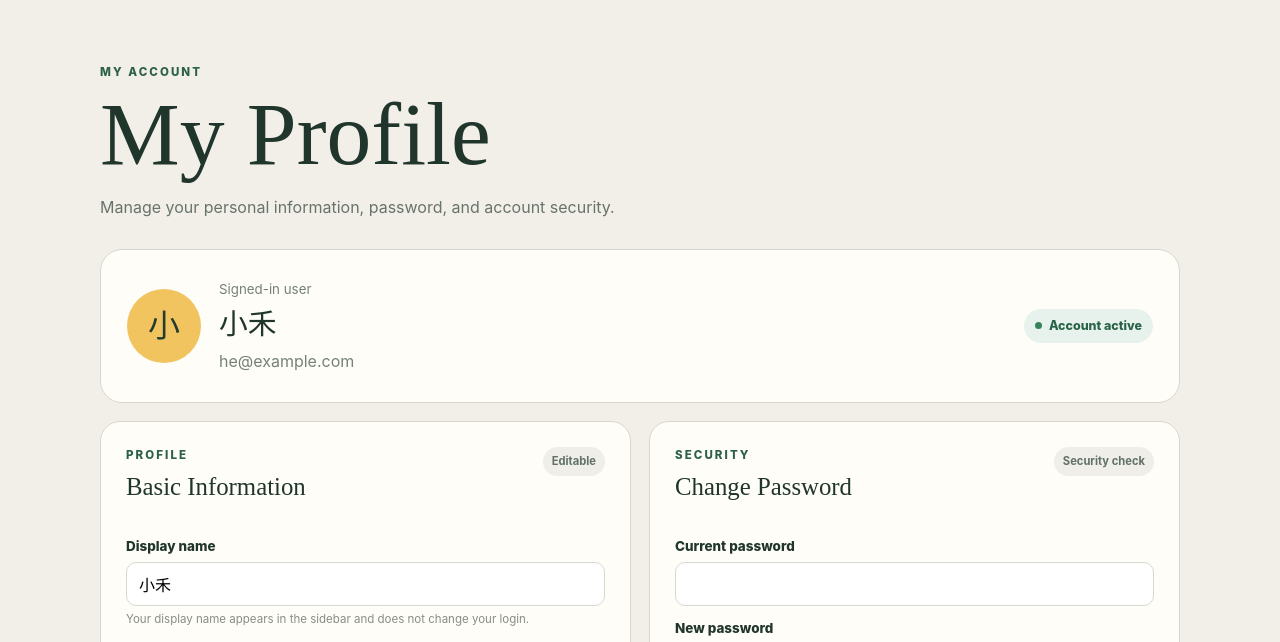
Test: ProfileView › 保存昵称后更新全局用户信息
The image size is (1280, 642).
Replace the text in the field labelled "Display name" with "新昵称" at {"x": 366, "y": 584}, box [126,562,605,606]
(page scrolled)
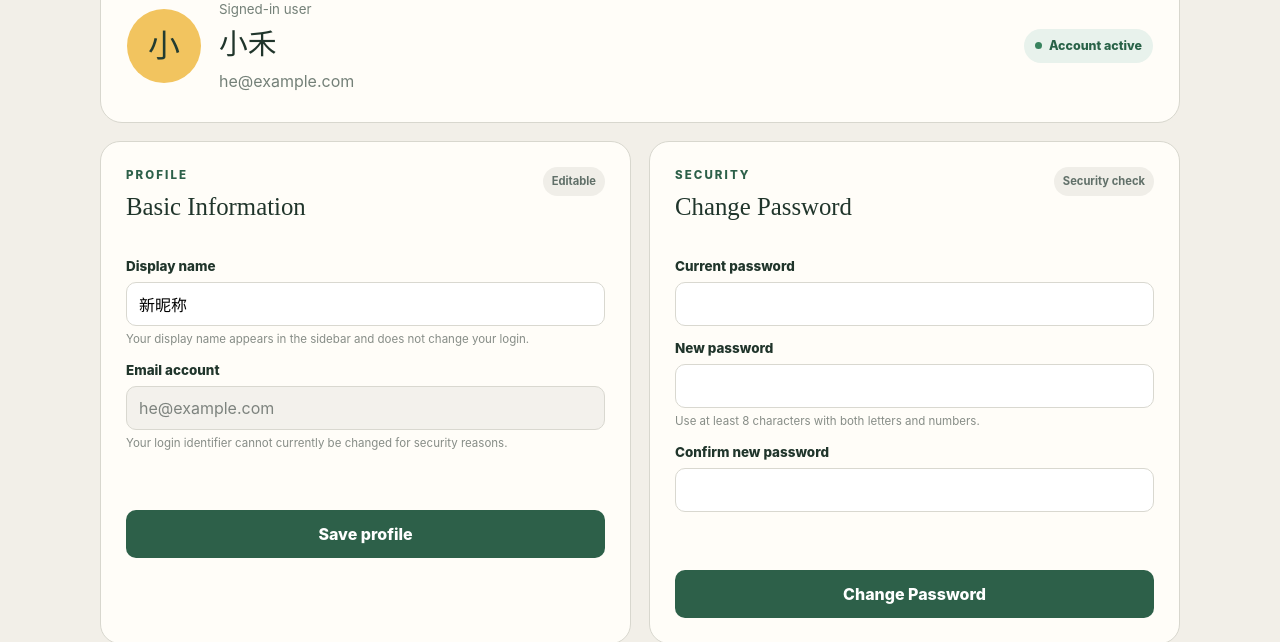
Submit the form that starts with "Display name", box [126,244,605,558]
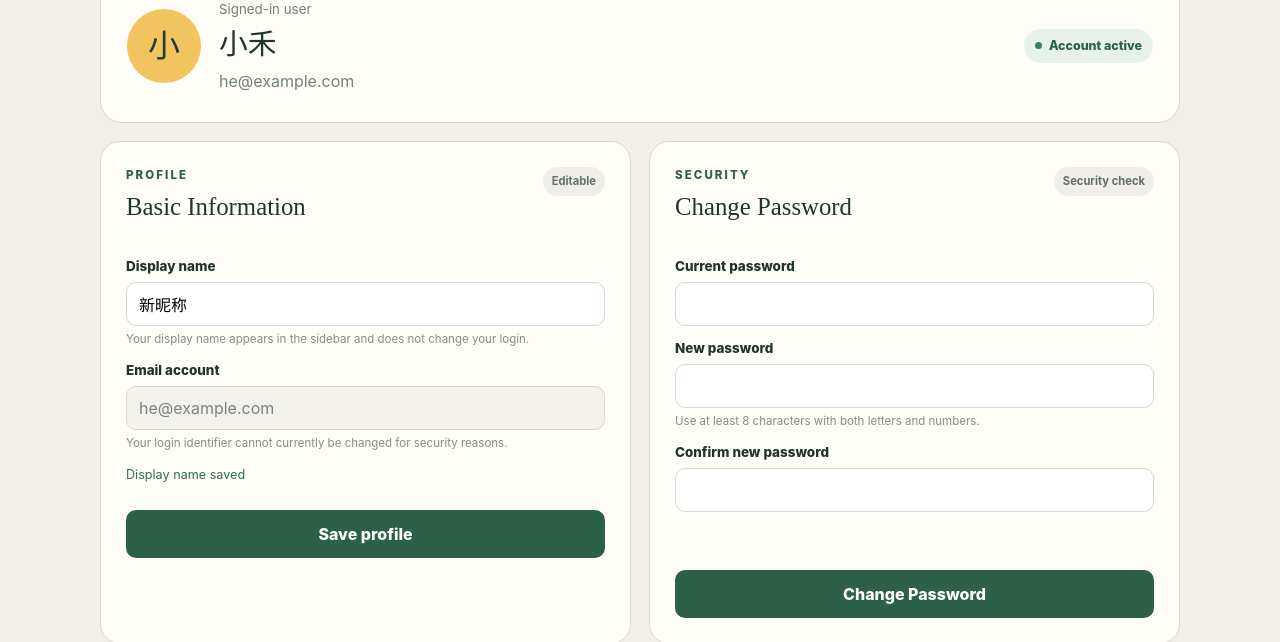
Expected: the text "Display name saved" is shown, [126,467,245,482]
